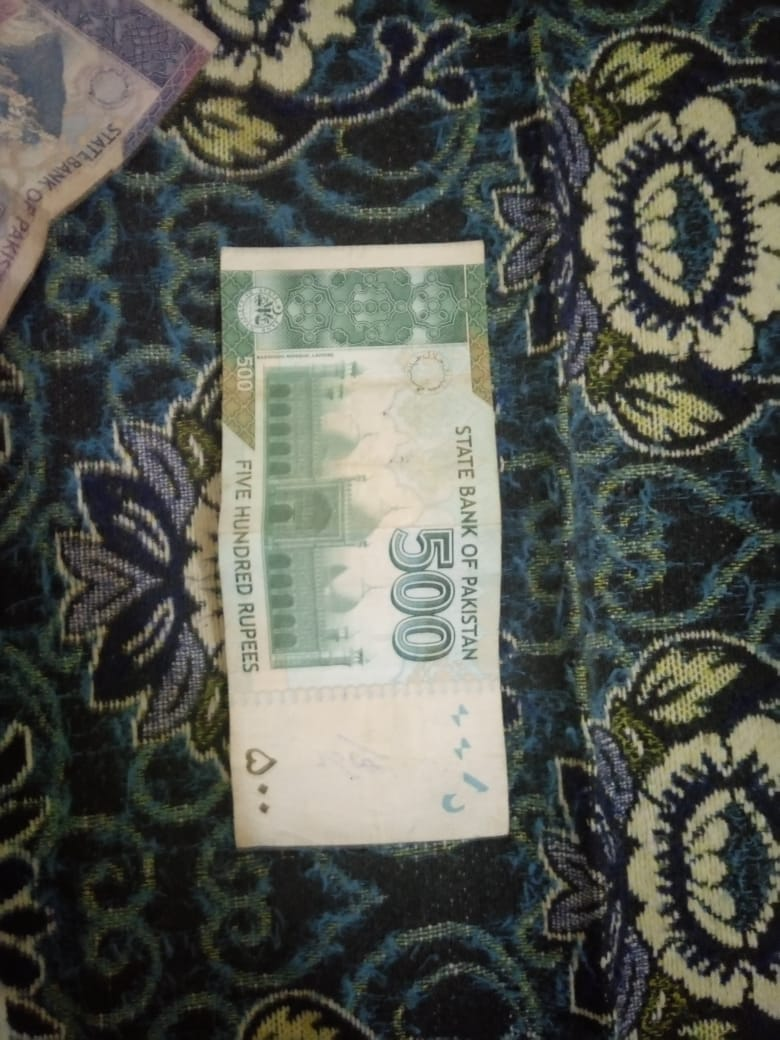500 rupee: (202, 228, 521, 859)
